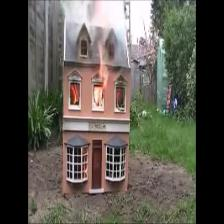fire: (94, 43, 108, 110), (72, 85, 79, 103)
smoke: (78, 6, 128, 74)
